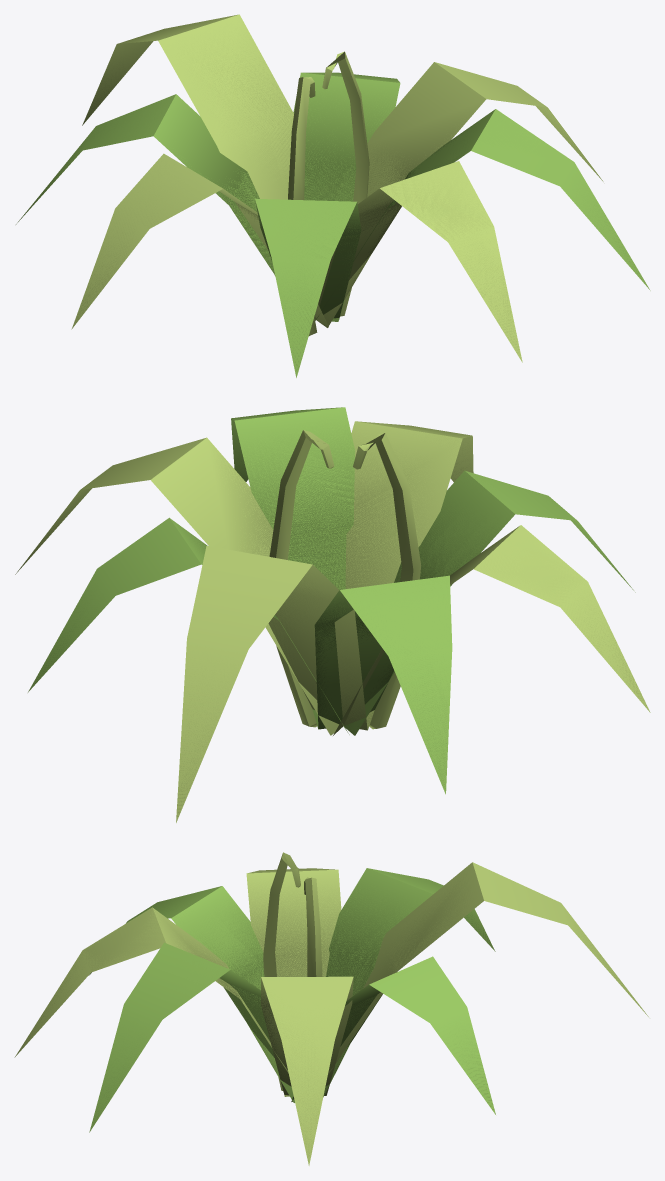
The model's file is EDV2_Fern.fbx.
3 views of the same model, one above another, from view 1: azimuth 30°, elevation 25°; view 2: azimuth 150°, elevation 25°; view 3: azimuth 270°, elevation 25° (orthographic). The views are drawn at different scales.
Parts seen in each view (by area): view 1: Fern; view 2: Fern; view 3: Fern.
Part boxes in pixels (x1,y1,x2,y2): Fern: (16,14,650,377); Fern: (15,407,650,822); Fern: (14,852,648,1165).
Size of the model in its own units: 0.4516 by 0.2062 by 0.5021.
